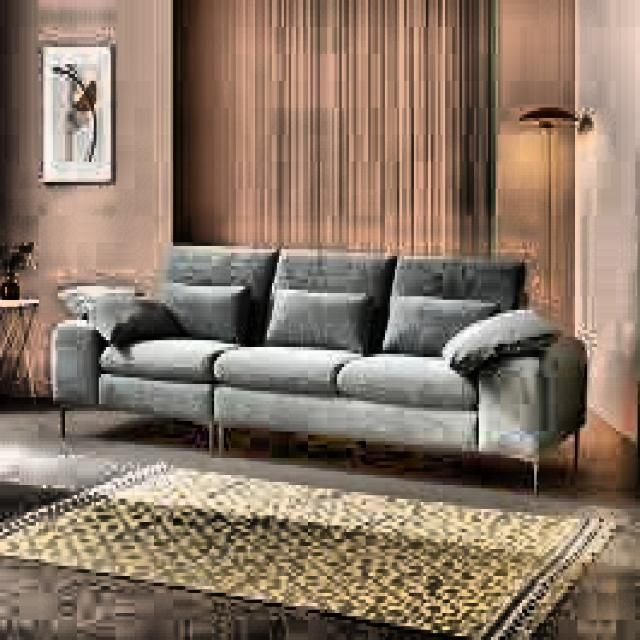sofa: (56, 236, 606, 492)
